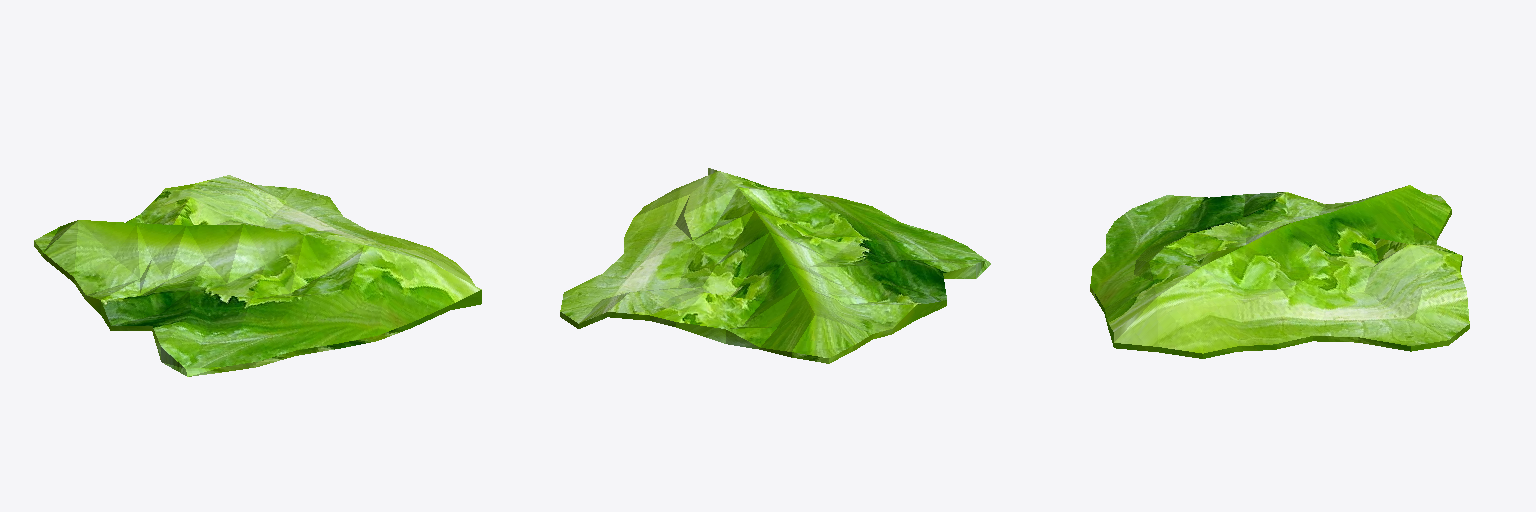
The picture shows the model from 3 angles: view 1: azimuth 30°, elevation 25°; view 2: azimuth 150°, elevation 25°; view 3: azimuth 270°, elevation 25°; orthographic projection.
Parts seen in each view (by area): view 1: Plane.001_Plane.002; view 2: Plane.001_Plane.002; view 3: Plane.001_Plane.002.
Part boxes in pixels (x1,y1,x2,y2): Plane.001_Plane.002: (34,175,481,376); Plane.001_Plane.002: (560,168,990,363); Plane.001_Plane.002: (1090,185,1469,358).
Size of the model in its own units: 1.32 by 0.2286 by 1.33.
1 materials, 1 textured.